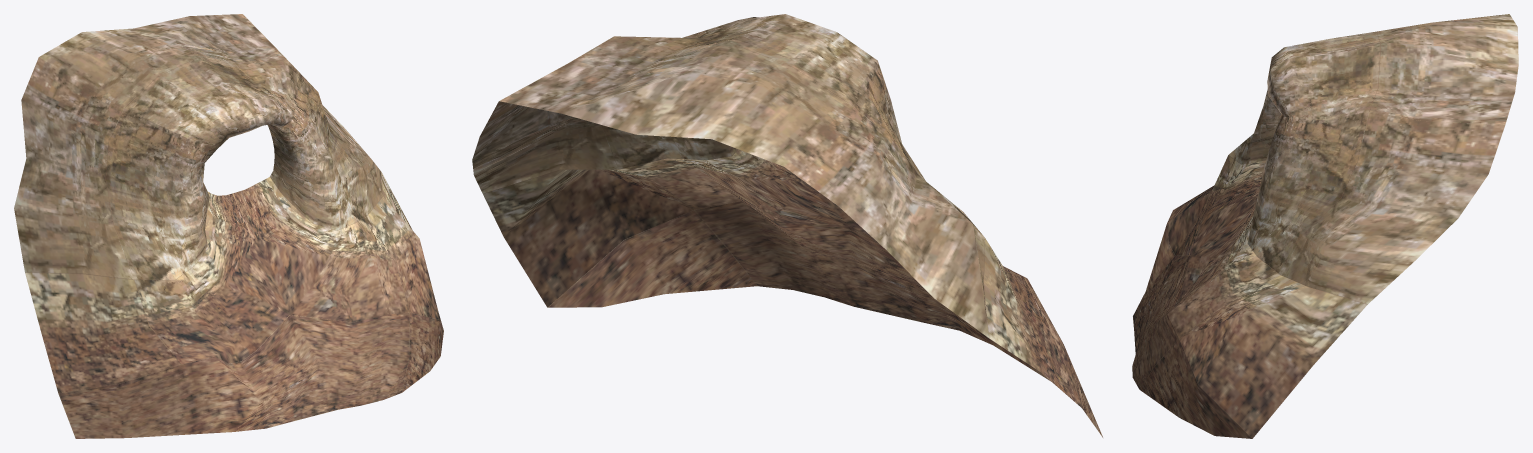
The model's file is thm_tato_cave_s01_r0_mesh_l2.fbx.
3 views of the same model, side by side, from view 1: azimuth 30°, elevation 25°; view 2: azimuth 150°, elevation 25°; view 3: azimuth 270°, elevation 25° (orthographic). The views are drawn at different scales.
Parts seen in each view (by area): view 1: mesh_node; view 2: mesh_node; view 3: mesh_node.
Boxes of the visible parts, box(x1,y1,x2,y2) form: mesh_node: box(14, 14, 443, 438); mesh_node: box(472, 14, 1102, 437); mesh_node: box(1132, 14, 1518, 438).
Bounding box in the file's own units: 48.32 × 34.16 × 39.34.
